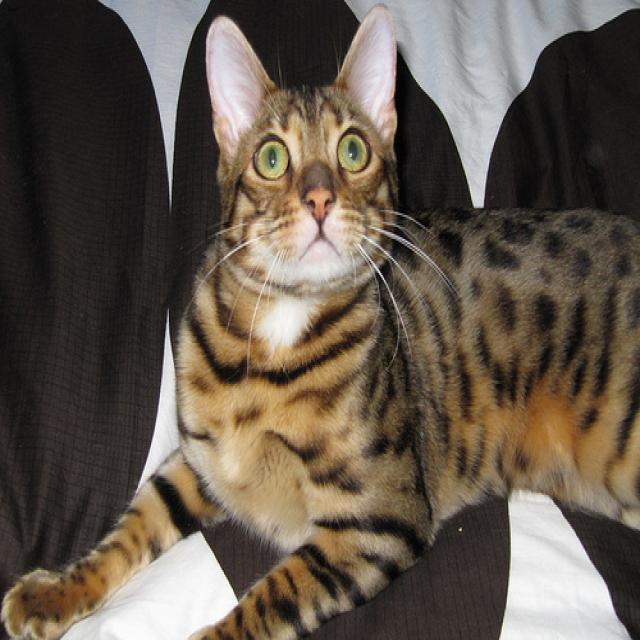Bengal: (196, 2, 402, 297)
